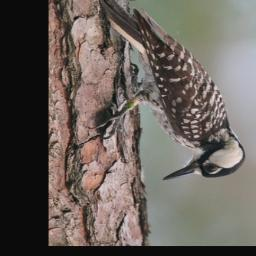Woodpecker: (89, 0, 246, 181)
